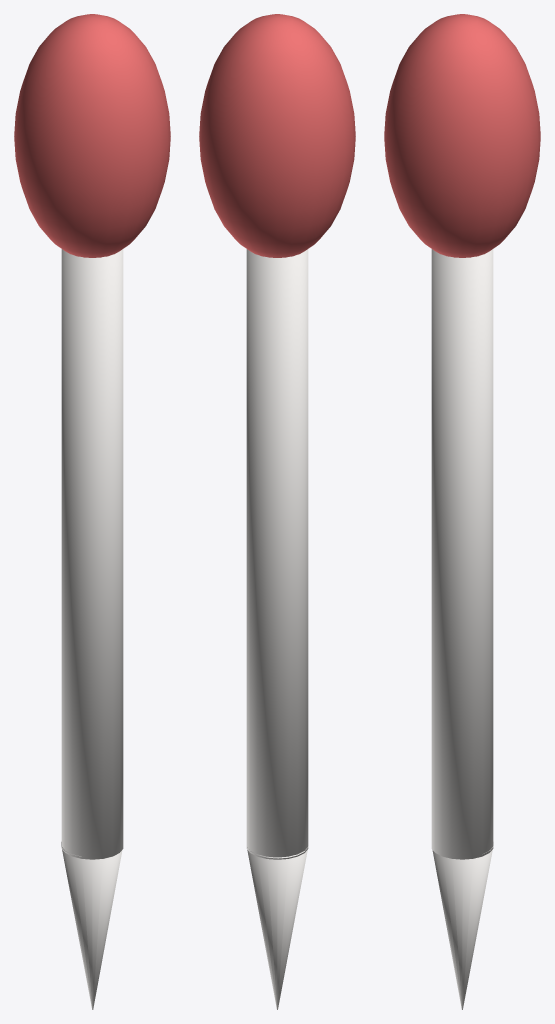
File: pipette.glb
3 renders of one model, left to right at view 1: azimuth 30°, elevation 25°; view 2: azimuth 150°, elevation 25°; view 3: azimuth 270°, elevation 25°, orthographic.
Visible parts, largest first — view 1: stem_node, bulb_node, tip_node; view 2: stem_node, bulb_node, tip_node; view 3: stem_node, bulb_node, tip_node.
Part boxes in pixels (<box>): stem_node: <box>61,249,123,859</box>; bulb_node: <box>14,14,170,257</box>; tip_node: <box>61,842,122,1009</box>; stem_node: <box>246,249,308,859</box>; bulb_node: <box>199,14,355,257</box>; tip_node: <box>247,847,307,1009</box>; stem_node: <box>431,249,493,859</box>; bulb_node: <box>384,14,540,257</box>; tip_node: <box>432,842,493,1009</box>.
Bounding box in the file's own units: 0.3 × 2.1 × 0.3.
